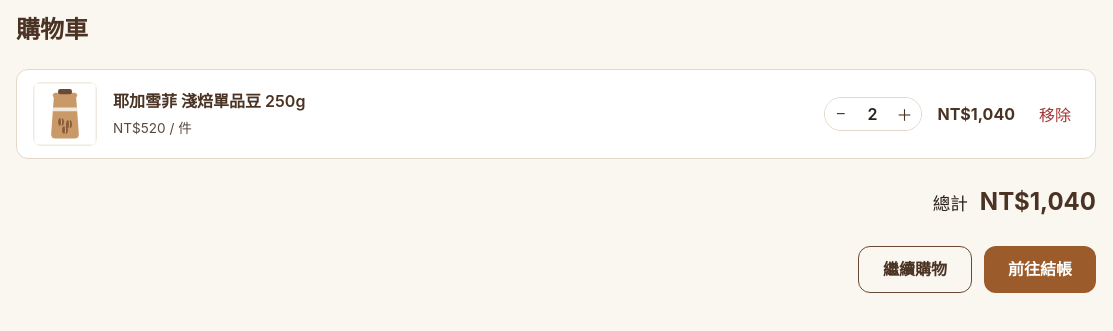
Cart 頁 › 更新數量遇到 409 庫存不足時，顯示後端回傳的錯誤訊息
Expected: the list item with test id "cart-item" is shown, [16,70,1096,160]
Click the button named "增加數量": point(904, 114) [888,98,920,130]
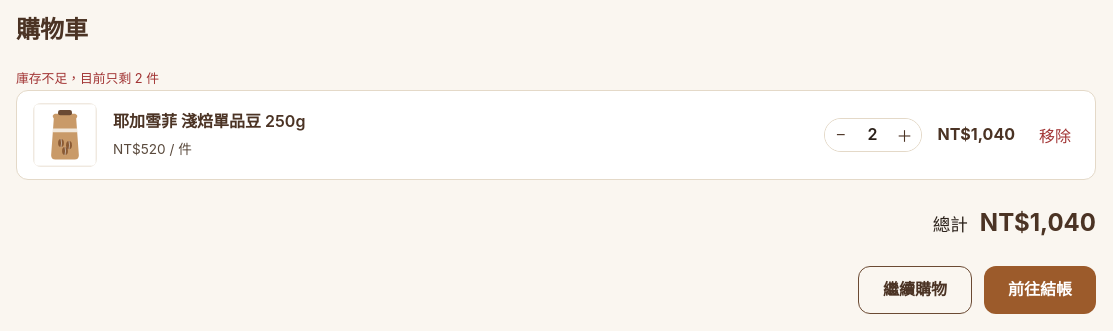
Result: the message with test id "cart-error" reads "庫存不足，目前只剩 2 件" at [16,72,159,86]
